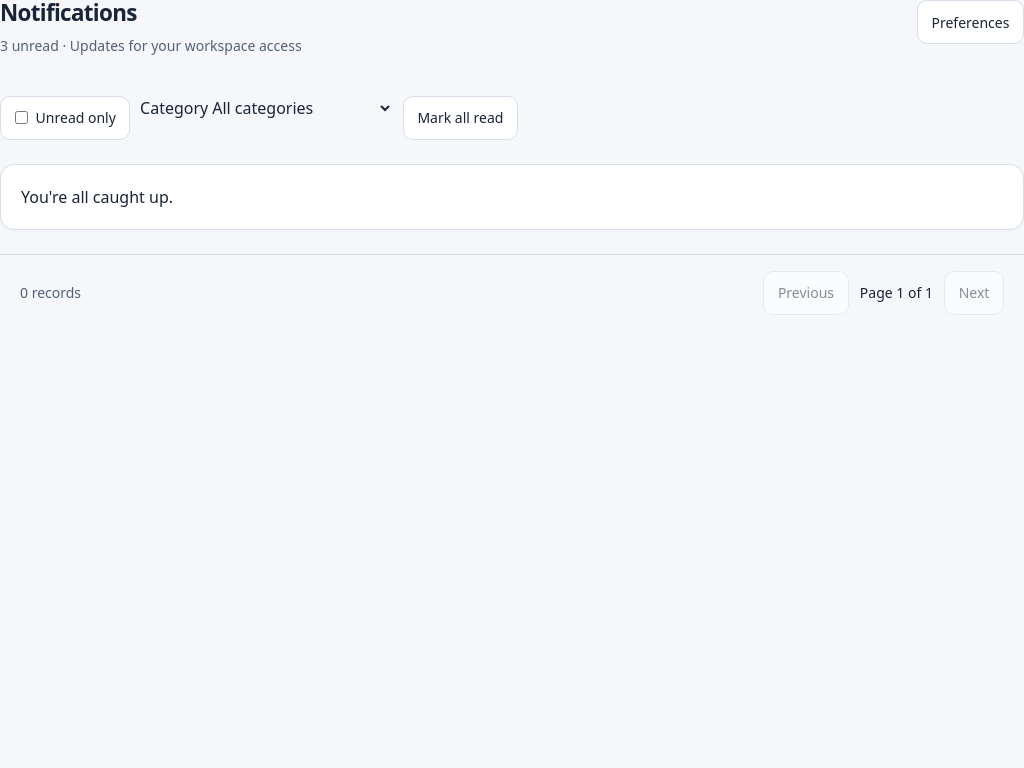
Scenario: personal bulk-read review uses unfiltered unread facts when the selected category is empty
Check: the text "3 unread · Updates for your workspace access" is shown, box x1=0 y1=35 x2=302 y2=56
Select "CRM assignments" in the dropdown labelled "Category" at (301, 108), box x1=208 y1=96 x2=393 y2=120
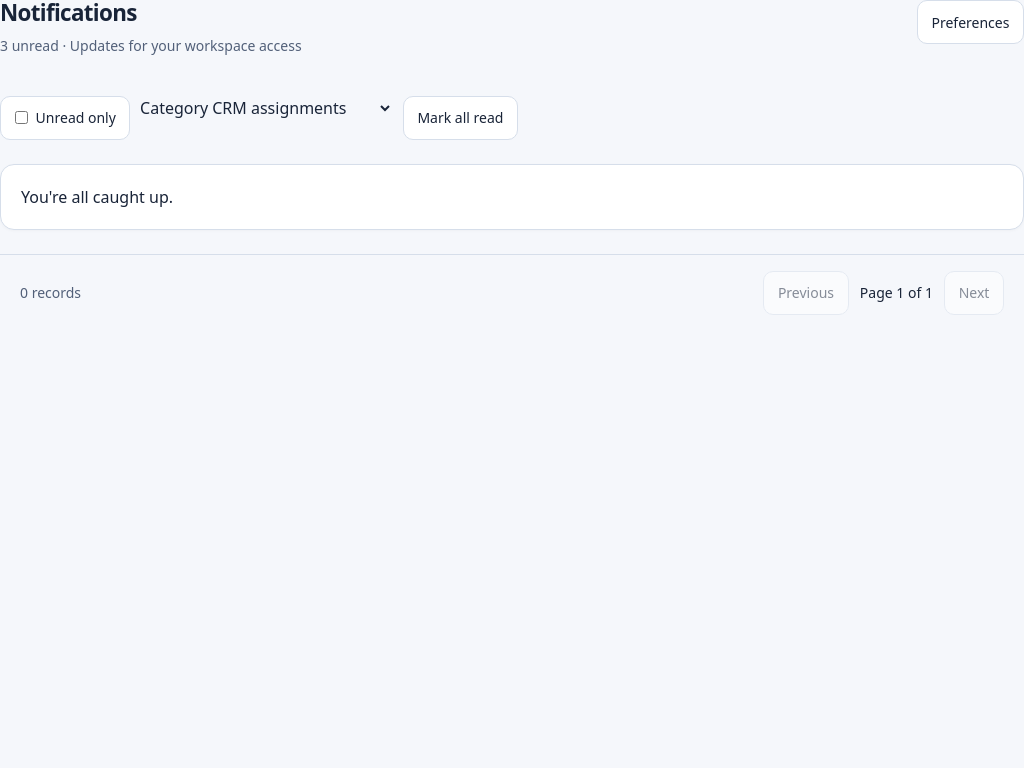
Check: the text "You're all caught up." is shown, box x1=0 y1=164 x2=1023 y2=230
Click the button "Mark all read".
click(460, 118)  # box x1=403 y1=96 x2=518 y2=140
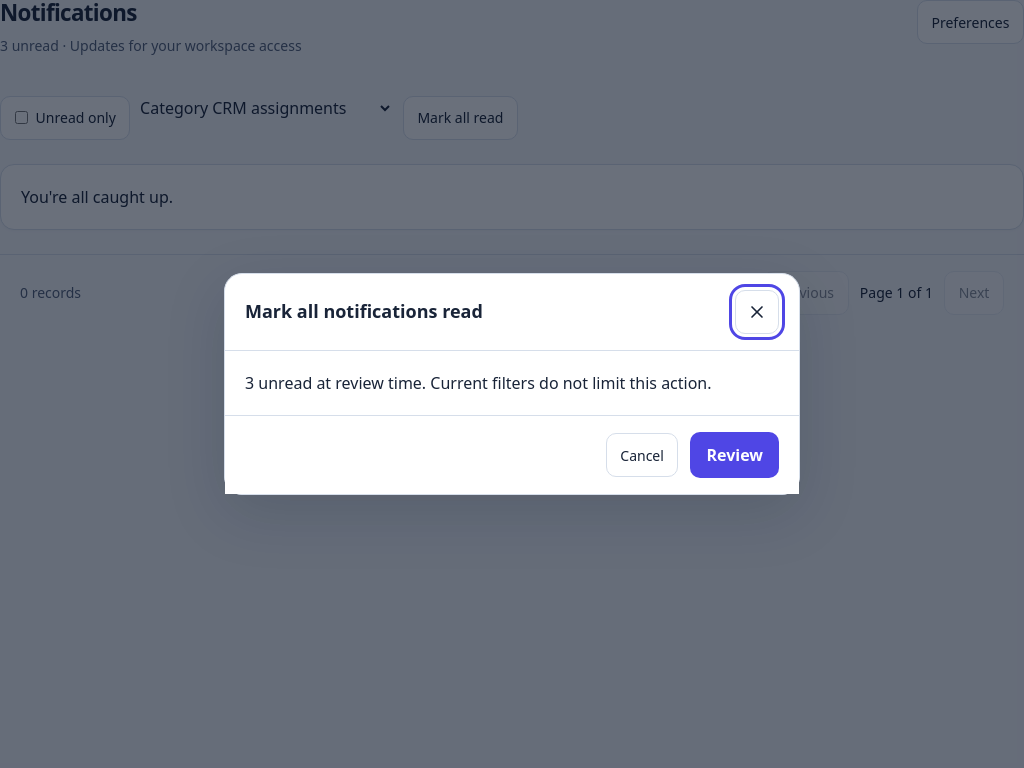
Check: the text "3 unread at review time. Current filters do not limit this action." is shown, box x1=245 y1=371 x2=779 y2=395
Click the button "Review".
click(735, 455)  # box x1=690 y1=432 x2=779 y2=478
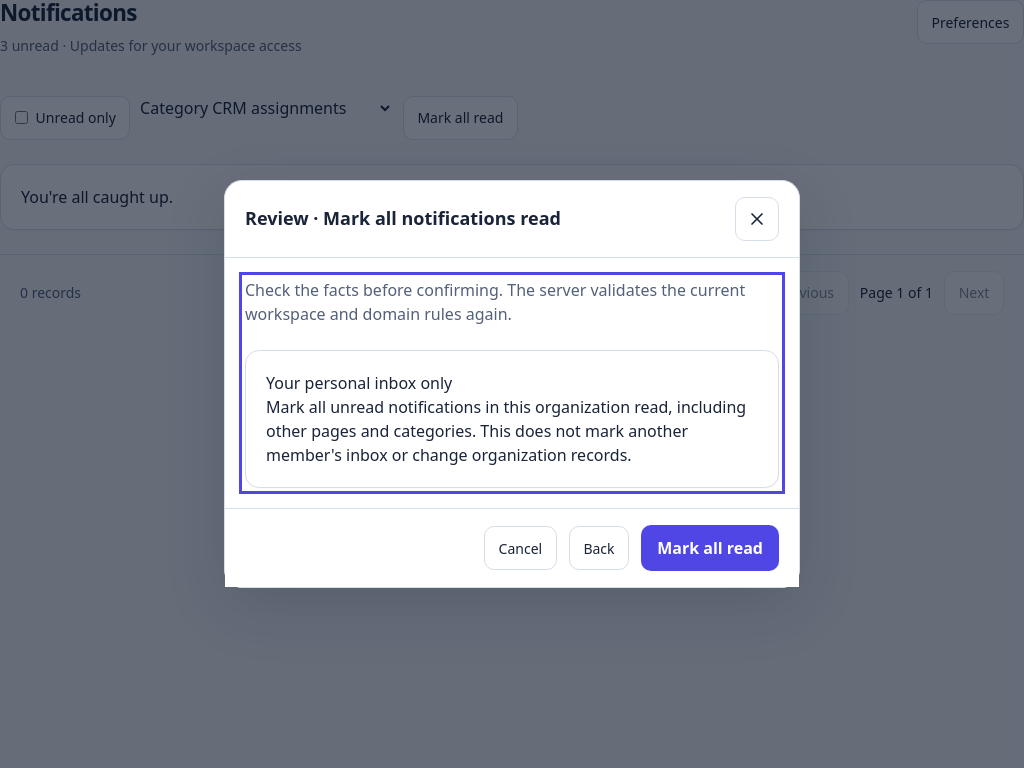
Check: the text "including other pages and categories" is shown, box x1=266 y1=396 x2=746 y2=466
